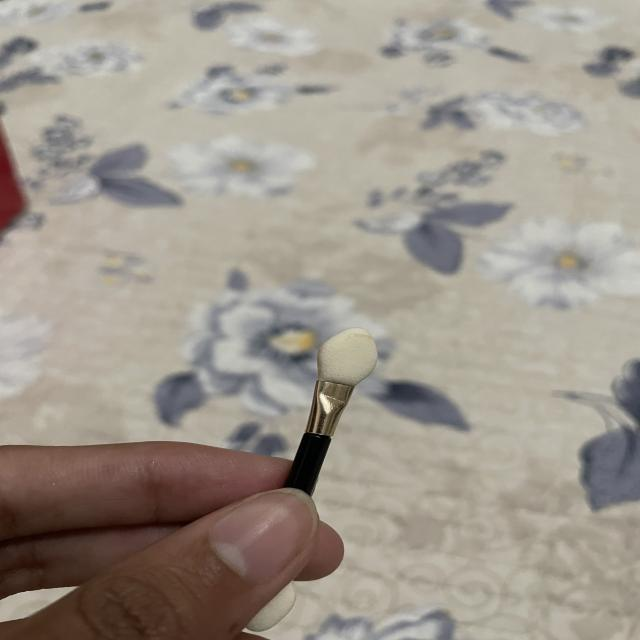beauty blender: (272, 321, 394, 467)
